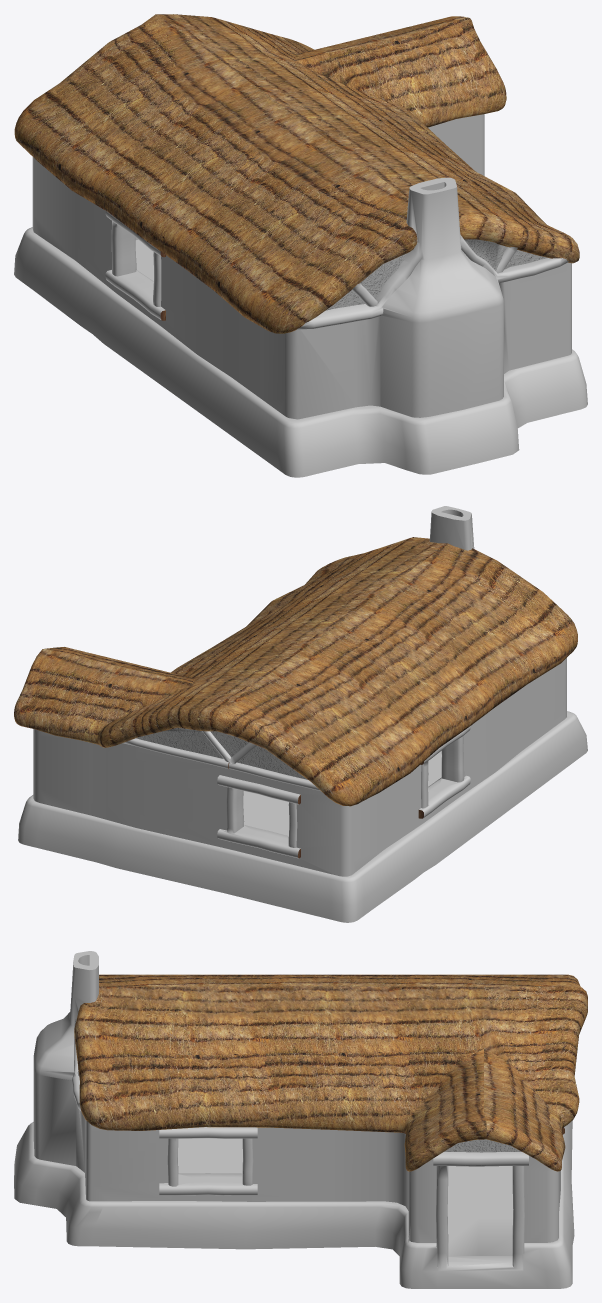
Rendered from House1_OneMesh.fbx.
3 views of the same model, one above another, from view 1: azimuth 30°, elevation 25°; view 2: azimuth 150°, elevation 25°; view 3: azimuth 270°, elevation 25° (orthographic). The views are drawn at different scales.
Parts seen in each view (by area): view 1: base; view 2: base; view 3: base.
Boxes of the visible parts, x1,y1,x2,y2 form: base: (14, 14, 587, 477); base: (14, 506, 587, 922); base: (14, 951, 587, 1288).
Size of the model in its own units: 1183 by 665 by 1562.
